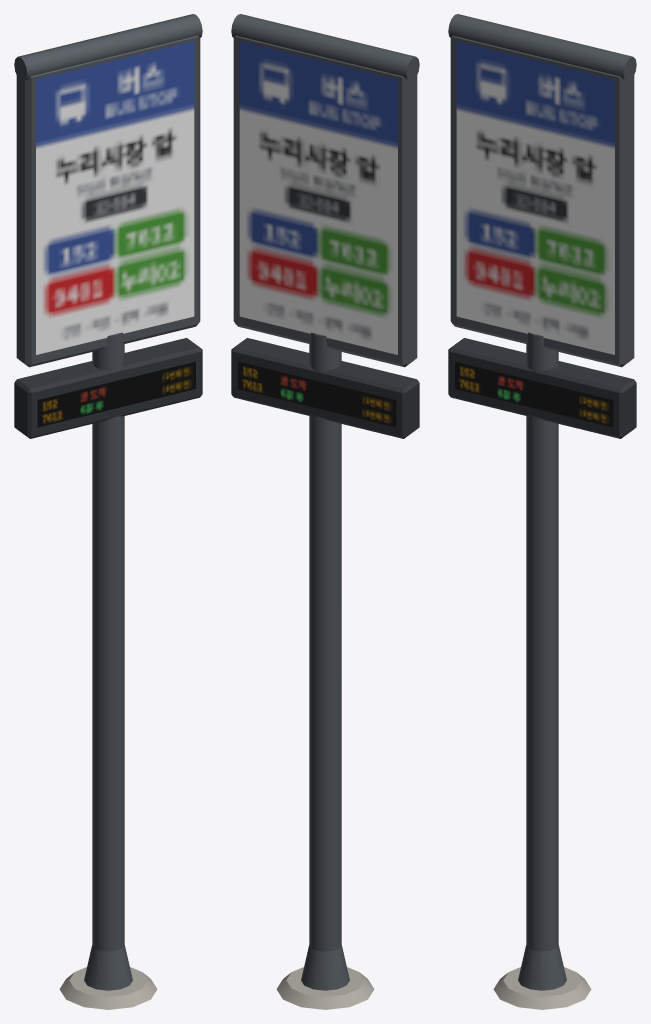
The model's file is SC_Str_BusStop_Sign.gltf.
3 renders of one model, left to right at view 1: azimuth 30°, elevation 25°; view 2: azimuth 150°, elevation 25°; view 3: azimuth 330°, elevation 25°, orthographic.
Visible parts, largest first — view 1: SC_Str_BusStop_Sign; view 2: SC_Str_BusStop_Sign; view 3: SC_Str_BusStop_Sign.
Boxes of the visible parts, x1,y1,x2,y2 form: SC_Str_BusStop_Sign: [14, 14, 202, 1009]; SC_Str_BusStop_Sign: [231, 14, 419, 1009]; SC_Str_BusStop_Sign: [448, 14, 636, 1009].
Size of the model in its own units: 0.62 by 3.22 by 0.3.
Materials: 3 (3 with a texture image).
